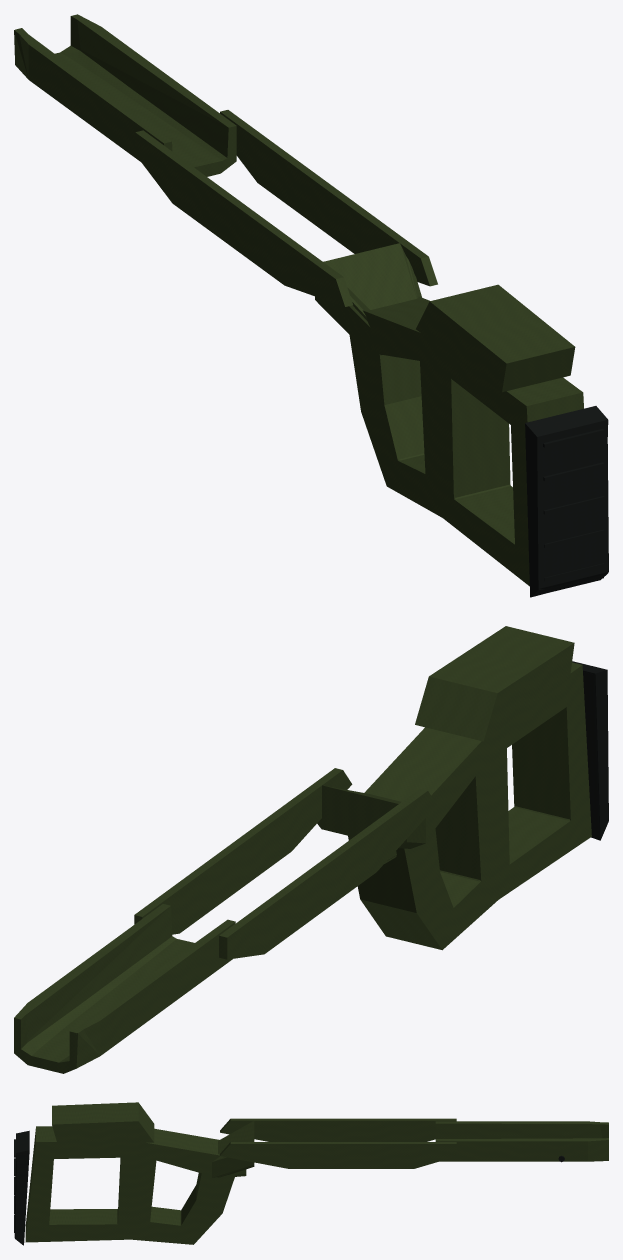
The model's file is sv98_stock.glb.
3 views of the same model, one above another, from view 1: azimuth 30°, elevation 25°; view 2: azimuth 150°, elevation 25°; view 3: azimuth 270°, elevation 25° (orthographic). The views are drawn at different scales.
Visible parts, largest first — view 1: stock__sv98_stock_LOD0_RAID_Secondary_Original_olive, stock__sv98_stock_LOD1_RAID_Secondary_Original_olive, stock__sv98_stock_LOD0_RAID_Secondary_Original_rubber, stock__sv98_stock_LOD1_RAID_Secondary_Original_rubber; view 2: stock__sv98_stock_LOD0_RAID_Secondary_Original_olive, stock__sv98_stock_LOD1_RAID_Secondary_Original_olive, stock__sv98_stock_LOD0_RAID_Secondary_Original_rubber, stock__sv98_stock_LOD1_RAID_Secondary_Original_rubber; view 3: stock__sv98_stock_LOD0_RAID_Secondary_Original_olive, stock__sv98_stock_LOD1_RAID_Secondary_Original_olive, stock__sv98_stock_LOD0_RAID_Secondary_Original_rubber, stock__sv98_stock_LOD1_RAID_Secondary_Original_rubber.
Boxes of the visible parts, bbox=[...] form: stock__sv98_stock_LOD0_RAID_Secondary_Original_olive: bbox=[15, 14, 582, 584]; stock__sv98_stock_LOD1_RAID_Secondary_Original_olive: bbox=[14, 14, 583, 586]; stock__sv98_stock_LOD0_RAID_Secondary_Original_rubber: bbox=[525, 407, 608, 591]; stock__sv98_stock_LOD1_RAID_Secondary_Original_rubber: bbox=[525, 406, 608, 597]; stock__sv98_stock_LOD0_RAID_Secondary_Original_olive: bbox=[14, 627, 591, 1073]; stock__sv98_stock_LOD1_RAID_Secondary_Original_olive: bbox=[15, 626, 591, 1073]; stock__sv98_stock_LOD0_RAID_Secondary_Original_rubber: bbox=[572, 661, 608, 839]; stock__sv98_stock_LOD1_RAID_Secondary_Original_rubber: bbox=[572, 661, 608, 840]; stock__sv98_stock_LOD0_RAID_Secondary_Original_olive: bbox=[25, 1103, 608, 1241]; stock__sv98_stock_LOD1_RAID_Secondary_Original_olive: bbox=[25, 1102, 608, 1244]; stock__sv98_stock_LOD0_RAID_Secondary_Original_rubber: bbox=[14, 1131, 564, 1245]; stock__sv98_stock_LOD1_RAID_Secondary_Original_rubber: bbox=[15, 1130, 29, 1241].
Bounding box in the file's own units: 0.115 × 0.263 × 1.13.
Materials: 2 (2 with a texture image).
